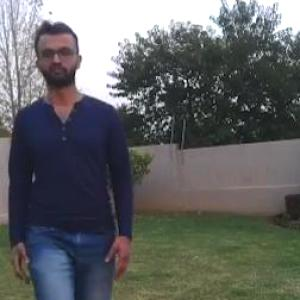follow: (24, 38, 126, 299)
